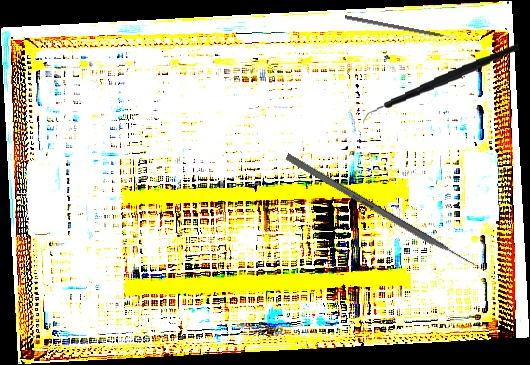Chopper: (358, 42, 524, 128)
Hook Surgical: (344, 15, 458, 42)
Pusher: (284, 153, 491, 277)
